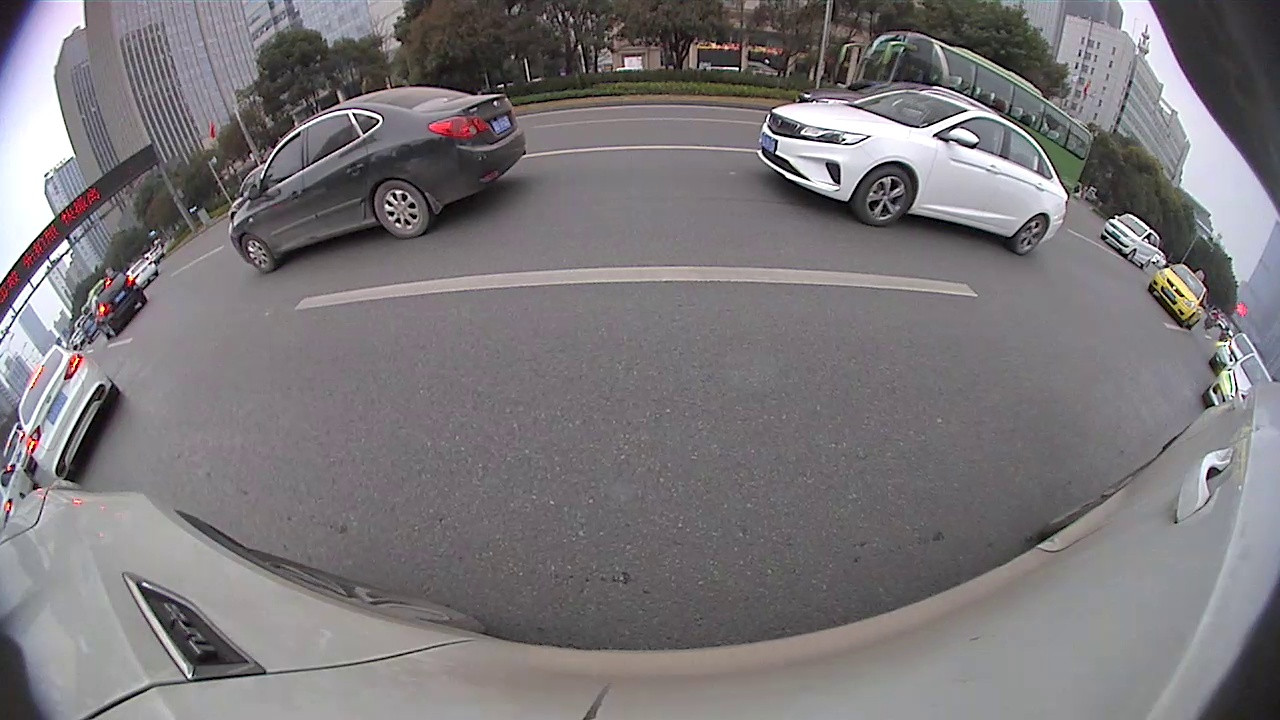bus: (827, 25, 1096, 202)
car: (227, 82, 528, 276), (756, 84, 1073, 261), (13, 339, 122, 480), (1144, 256, 1209, 331), (88, 267, 149, 340), (1204, 349, 1275, 408), (1100, 211, 1164, 270)
front: (854, 167, 916, 225), (240, 234, 276, 275)
rear: (375, 180, 432, 238), (1013, 214, 1048, 254)
